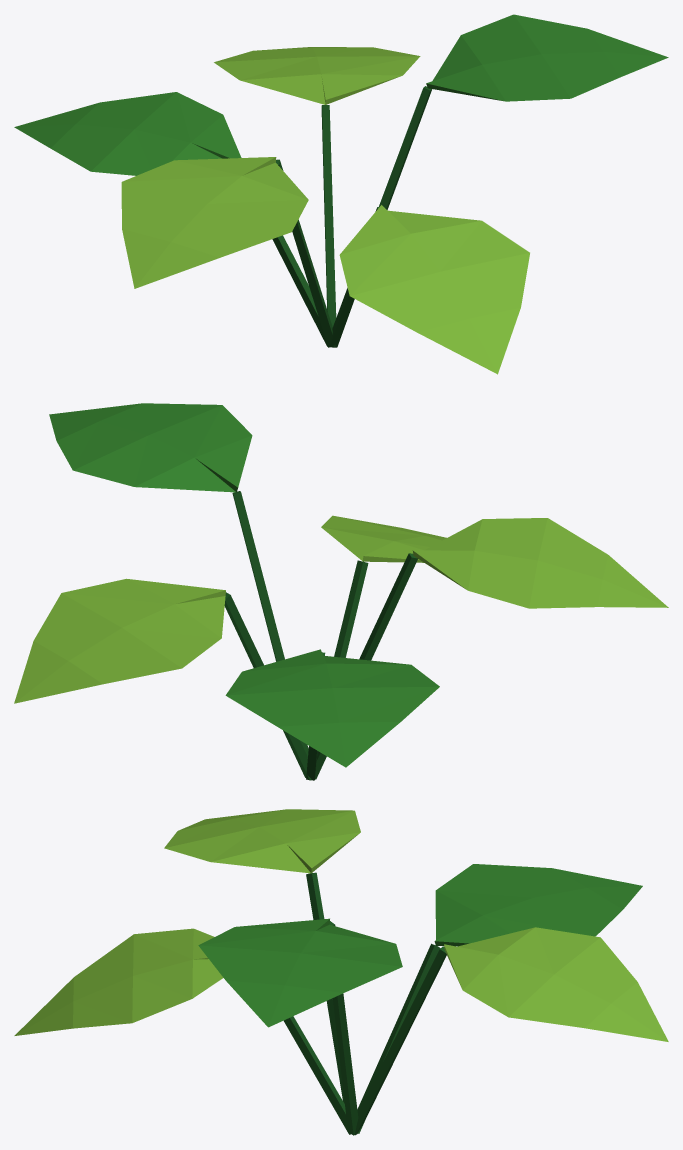
File: big_leaves.glb
The picture shows the model from 3 angles, top to bottom: view 1: azimuth 30°, elevation 25°; view 2: azimuth 150°, elevation 25°; view 3: azimuth 270°, elevation 25°; orthographic projection. The views are drawn at different scales.
Visible parts, largest first — view 1: leaf_light, leaf, leaf_dark; view 2: leaf_light, leaf, leaf_dark; view 3: leaf_light, leaf, leaf_dark.
Part boxes in pixels (x1=…): leaf_light: x1=121, y1=47, x2=529, y2=374; leaf: x1=14, y1=14, x2=668, y2=175; leaf_dark: x1=272, y1=86, x2=432, y2=347; leaf_light: x1=14, y1=515, x2=668, y2=703; leaf: x1=49, y1=403, x2=439, y2=767; leaf_dark: x1=224, y1=491, x2=417, y2=780; leaf_light: x1=14, y1=809, x2=668, y2=1041; leaf: x1=198, y1=864, x2=642, y2=1027; leaf_dark: x1=283, y1=872, x2=446, y2=1135.
Size of the model in its own units: 3.29 by 1.48 by 3.25.
